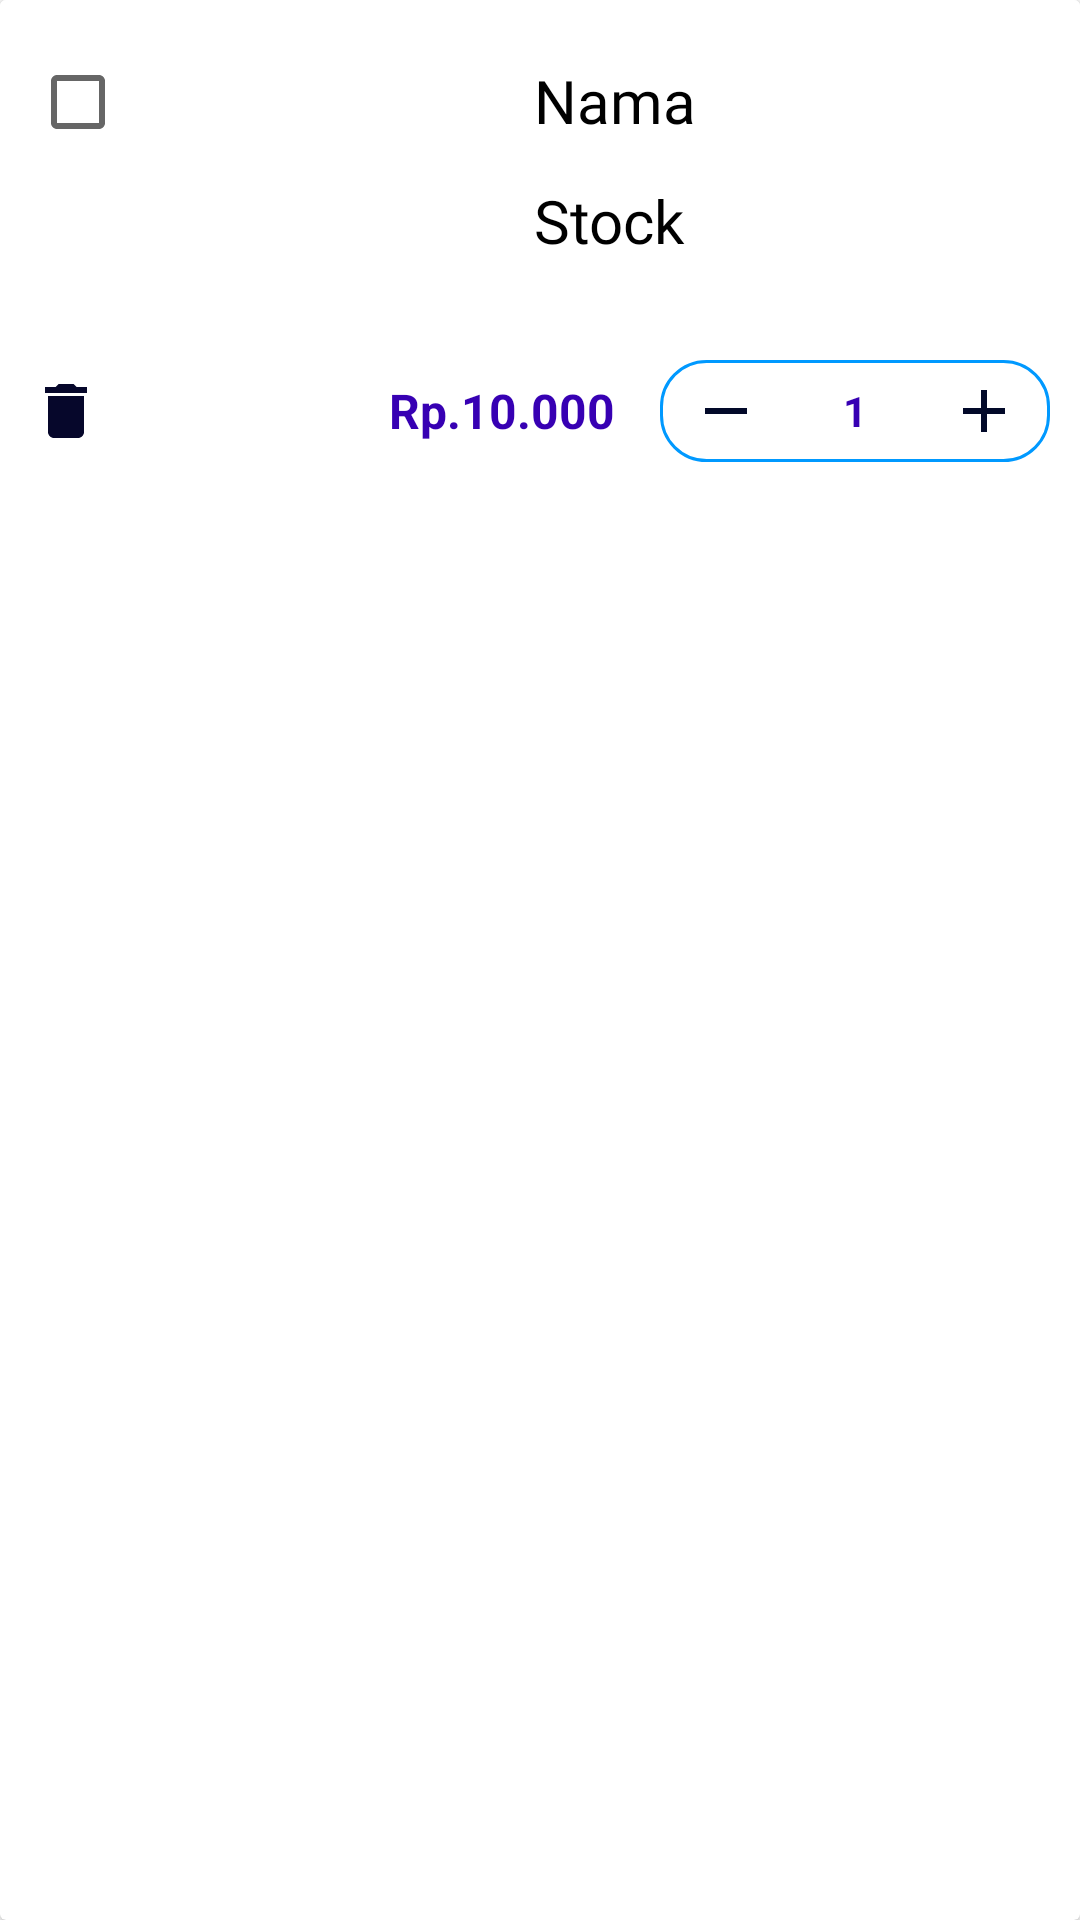

Point at icon controls on the screen. Image size 1080×1920, points as (x,y).
add: (984,411)
delete fkeranjang: (66,411)
